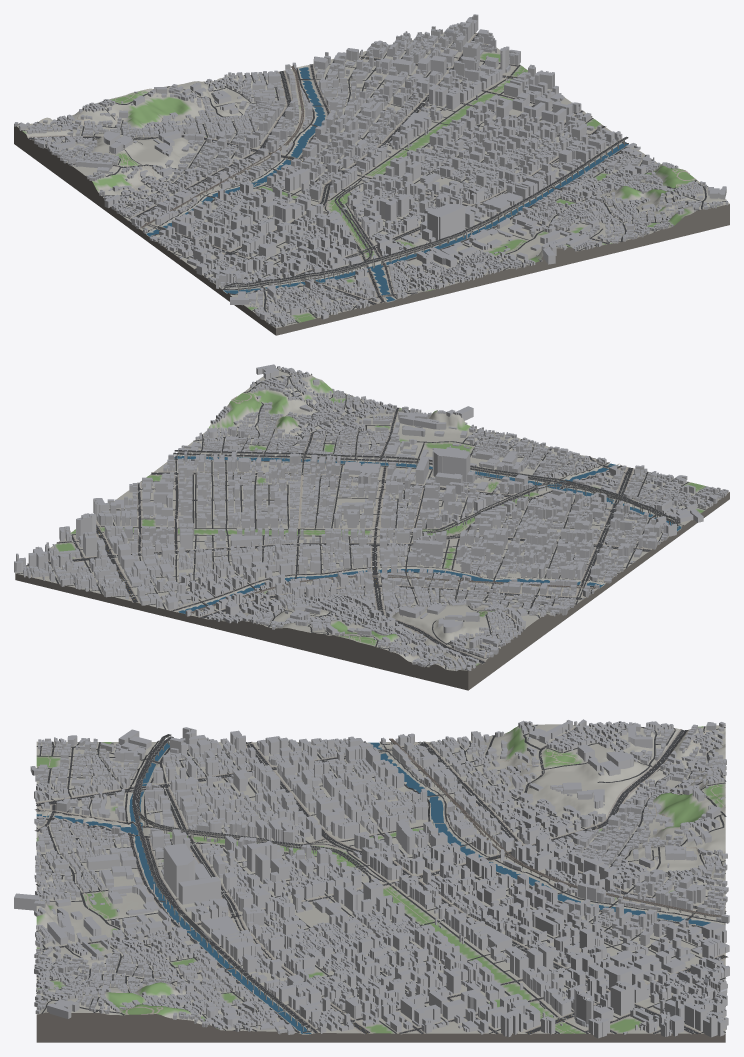
The model's file is bandobashi_all.glb.
3 views of the same model, one above another, from view 1: azimuth 30°, elevation 25°; view 2: azimuth 150°, elevation 25°; view 3: azimuth 270°, elevation 25° (orthographic). The views are drawn at different scales.
Visible parts, largest first — view 1: building_53391520, building_53391429, terrain, road_surface, building_53391530, building_53391439, building_53391510, building_53391419, terrain_skirt, water, road_sidewalk, structure_viaduct (+2 smaller); view 2: building_53391520, building_53391429, terrain, road_surface, building_53391530, terrain_skirt, building_53391510, building_53391439, building_53391419, road_sidewalk, structure_viaduct, road_footpath (+1 smaller); view 3: building_53391520, building_53391429, terrain, building_53391530, road_surface, building_53391439, building_53391419, building_53391510, terrain_skirt, road_sidewalk, water, road_footpath (+2 smaller).
Part boxes in pixels (x1,y1,x2,y2): building_53391520: [291, 46, 678, 240]; building_53391429: [68, 116, 435, 288]; terrain: [17, 32, 729, 328]; road_surface: [18, 33, 727, 326]; building_53391530: [236, 14, 520, 120]; building_53391439: [14, 72, 280, 163]; building_53391510: [464, 179, 727, 270]; building_53391419: [230, 242, 499, 327]; terrain_skirt: [14, 124, 729, 335]; water: [146, 67, 628, 301]; road_sidewalk: [28, 33, 625, 305]; structure_viaduct: [140, 66, 628, 297]; building_53391520: [76, 406, 470, 586]; building_53391429: [303, 471, 676, 632]; terrain: [15, 368, 729, 671]; road_surface: [17, 369, 720, 670]; building_53391530: [14, 526, 300, 623]; terrain_skirt: [15, 492, 729, 690]; building_53391510: [248, 364, 504, 462]; building_53391439: [249, 584, 520, 670]; building_53391419: [470, 432, 728, 522]; road_sidewalk: [26, 407, 650, 661]; structure_viaduct: [173, 451, 680, 613]; road_footpath: [27, 388, 704, 667]; building_53391520: [158, 843, 594, 1037]; building_53391429: [162, 719, 594, 884]; terrain: [36, 724, 725, 1034]; building_53391530: [582, 870, 729, 1038]; road_surface: [36, 724, 727, 1034]; building_53391439: [584, 721, 727, 884]; building_53391419: [30, 729, 168, 885]; building_53391510: [14, 879, 165, 1018]; terrain_skirt: [36, 1012, 725, 1042]; road_sidewalk: [34, 724, 728, 1034]; water: [36, 742, 710, 1033]; road_footpath: [36, 729, 725, 1033].
Size of the model in its own units: 1562 by 98.62 by 1558.
